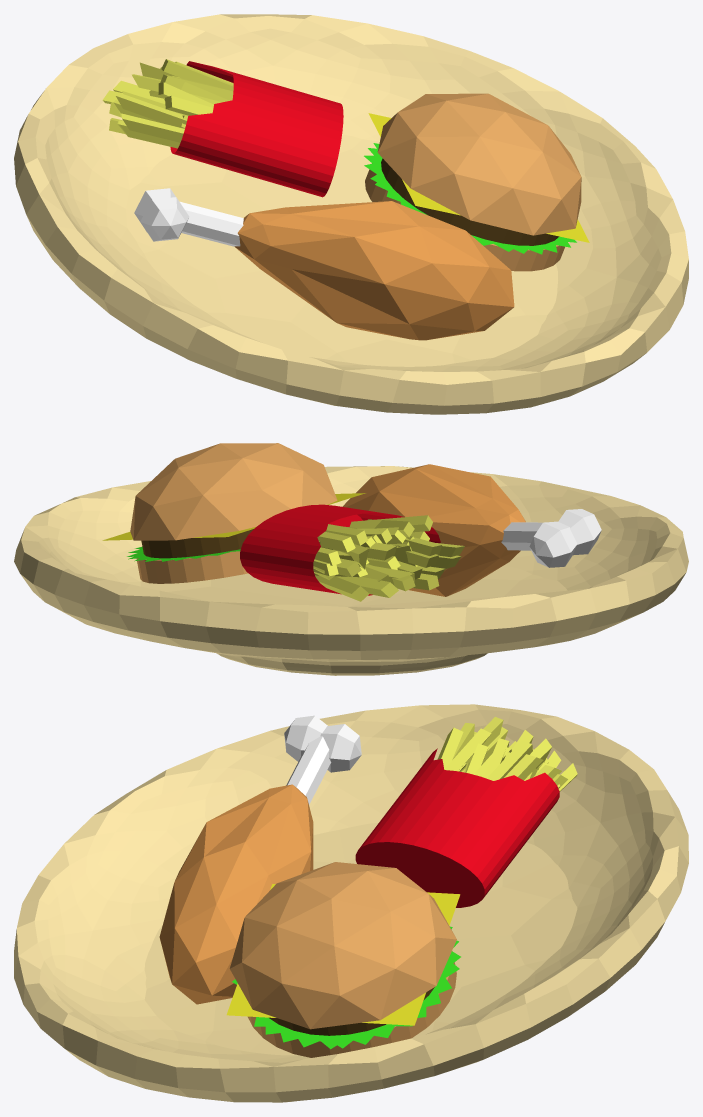
File: food.glb
3 views of the same model, one above another, from view 1: azimuth 30°, elevation 25°; view 2: azimuth 150°, elevation 25°; view 3: azimuth 270°, elevation 25° (orthographic). The views are drawn at different scales.
Parts seen in each view (by area): view 1: Icosphere, Sphere, Cylinder.001, Cube.003; view 2: Icosphere, Cylinder.001, Cube.003, Sphere; view 3: Icosphere, Cylinder.001, Cube.003, Sphere.
Boxes of the visible parts, left/top/right/bottom form: Icosphere: left=14, top=14, right=688, bottom=414; Sphere: left=134, top=188, right=514, bottom=340; Cylinder.001: left=364, top=93, right=589, bottom=271; Cube.003: left=102, top=59, right=343, bottom=197; Icosphere: left=14, top=466, right=688, bottom=675; Cylinder.001: left=102, top=443, right=365, bottom=583; Cube.003: left=240, top=504, right=464, bottom=601; Sphere: left=342, top=464, right=601, bottom=596; Icosphere: left=14, top=704, right=688, bottom=1102; Cylinder.001: left=226, top=862, right=460, bottom=1057; Cube.003: left=355, top=717, right=577, bottom=907; Sphere: left=159, top=715, right=361, bottom=1004.
Size of the model in its own units: 4.48 by 1.62 by 4.42.
